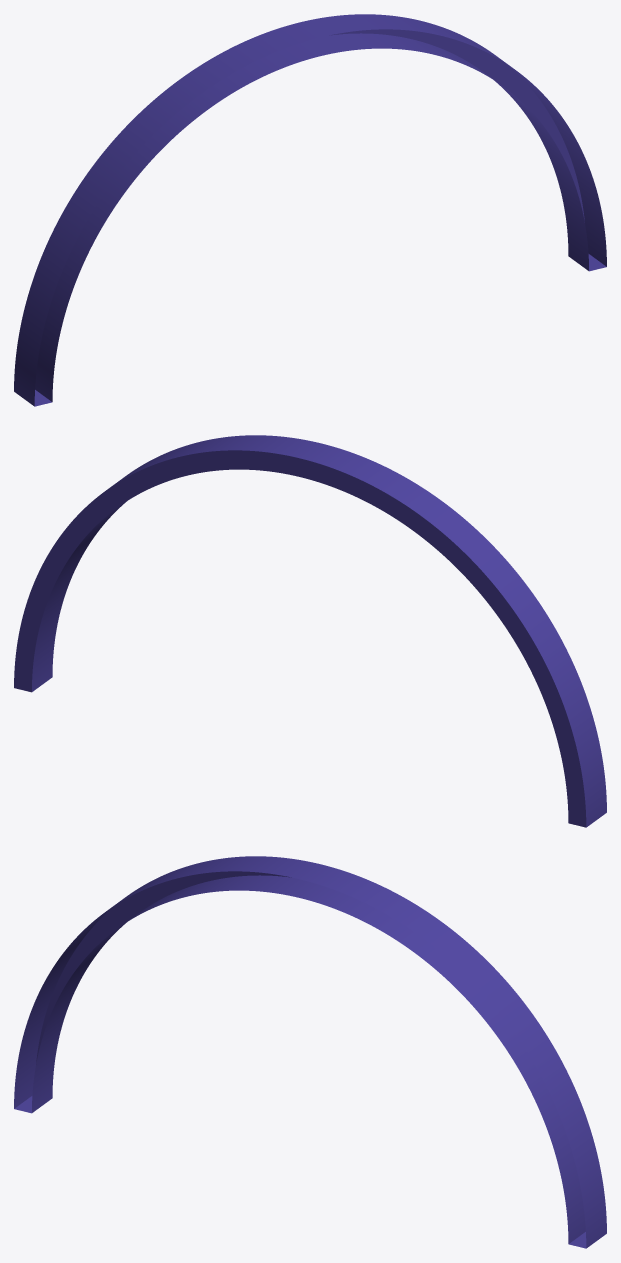
File: Arch.obj
3 renders of one model, top to bottom at view 1: azimuth 30°, elevation 25°; view 2: azimuth 150°, elevation 25°; view 3: azimuth 330°, elevation 25°, orthographic.
Parts seen in each view (by area): view 1: Arch; view 2: Arch; view 3: Arch.
Part boxes in pixels (x1,y1,x2,y2): Arch: (14, 14, 606, 406); Arch: (14, 435, 606, 827); Arch: (14, 856, 606, 1248).
Bounding box in the file's own units: 64 × 32 × 4.
